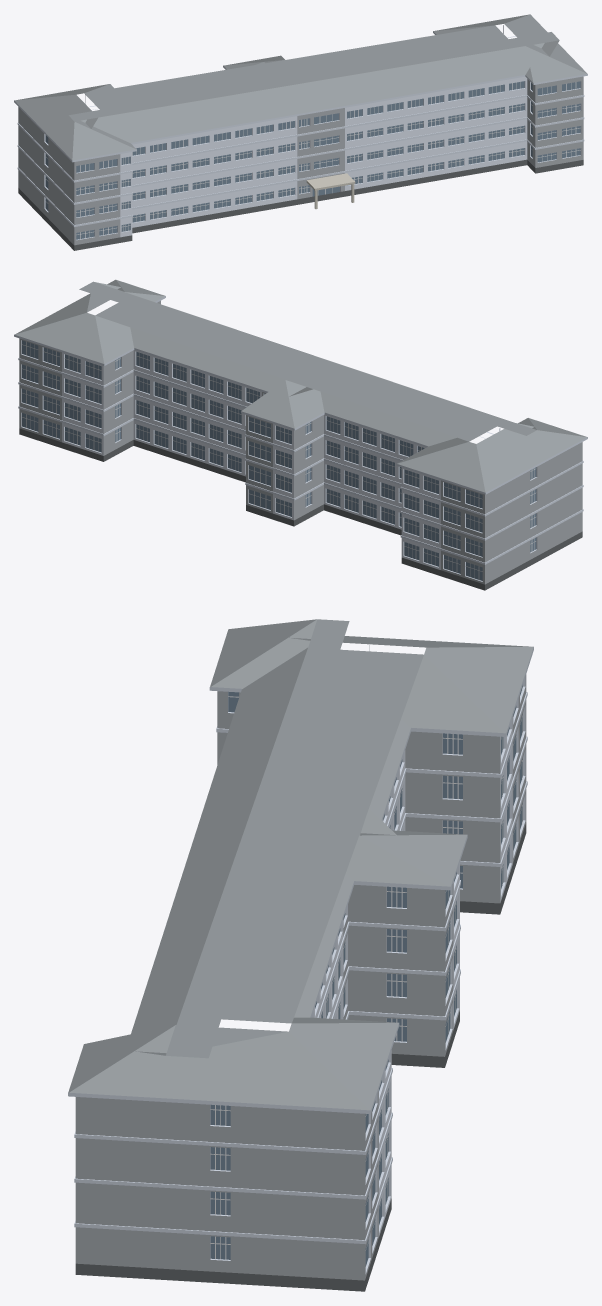
3 views of the same model, one above another, from view 1: azimuth 30°, elevation 25°; view 2: azimuth 150°, elevation 25°; view 3: azimuth 270°, elevation 25° (orthographic). The views are drawn at different scales.
Parts seen in each view (by area): view 1: wing3__roof, wing3__wall-plaster, wing3__brick, wing3__glass, wing3__trim-concrete, wing3__base-stone, wing3__frame, wing3__canopy-concrete; view 2: wing3__roof, wing3__glass, wing3__brick, wing3__wall-plaster, wing3__trim-concrete, wing3__frame, wing3__base-stone; view 3: wing3__roof, wing3__brick, wing3__trim-concrete, wing3__glass, wing3__base-stone, wing3__wall-plaster, wing3__frame.
Part boxes in pixels (x1,y1,x2,y2): wing3__roof: (14,14,587,160); wing3__wall-plaster: (120,76,527,237); wing3__brick: (18,76,583,245); wing3__glass: (45,81,580,239); wing3__trim-concrete: (14,25,587,240); wing3__base-stone: (18,159,583,250); wing3__frame: (45,82,580,238); wing3__canopy-concrete: (306,173,355,209); wing3__roof: (14,279,587,492); wing3__glass: (22,340,536,580); wing3__brick: (19,301,582,584); wing3__wall-plaster: (62,350,440,569); wing3__trim-concrete: (14,296,587,581); wing3__frame: (22,341,535,579); wing3__base-stone: (19,428,582,590); wing3__roof: (68,619,533,1110); wing3__brick: (75,674,526,1280); wing3__trim-concrete: (68,645,533,1273); wing3__glass: (210,685,522,1266); wing3__base-stone: (75,822,526,1291); wing3__wall-plaster: (313,717,512,1237); wing3__frame: (210,687,523,1259).
Bounding box in the file's own units: 83.41 × 17.58 × 34.09.
